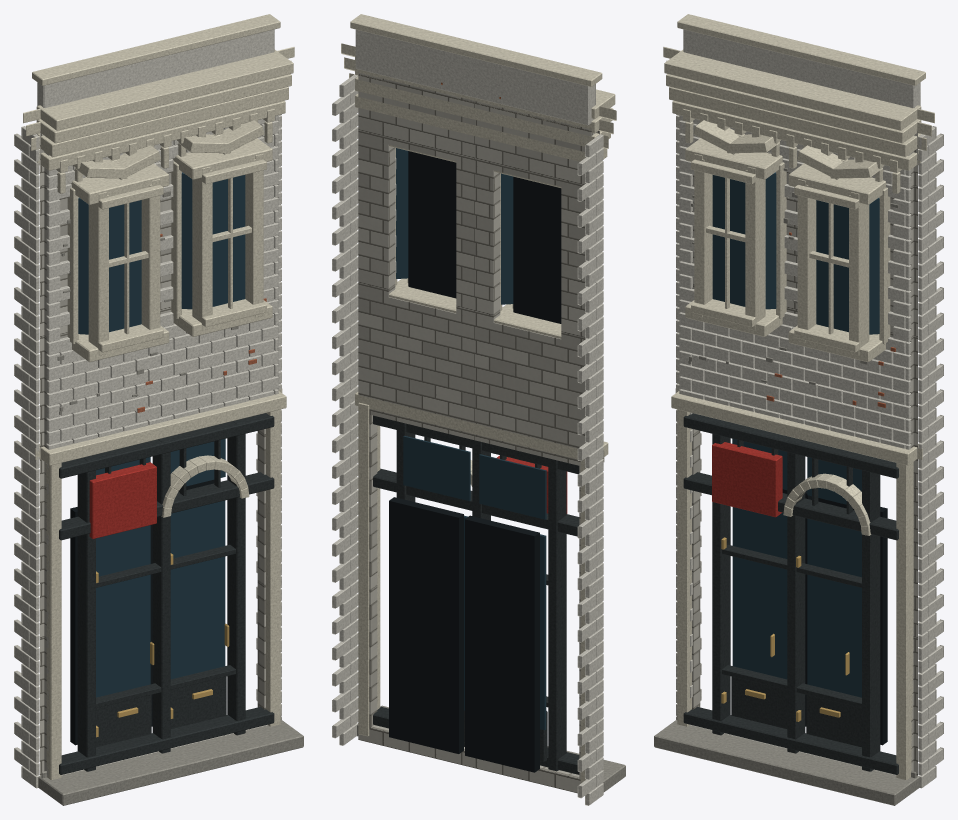
File: BUSS6_lod0.glb
3 views of the same model, side by side, from view 1: azimuth 30°, elevation 25°; view 2: azimuth 150°, elevation 25°; view 3: azimuth 330°, elevation 25° (orthographic).
Parts seen in each view (by area): view 1: BUSS6_FRONT_LOD0; view 2: BUSS6_FRONT_LOD0; view 3: BUSS6_FRONT_LOD0.
Part boxes in pixels (x1,y1,x2,y2): BUSS6_FRONT_LOD0: [14, 14, 303, 805]; BUSS6_FRONT_LOD0: [332, 14, 625, 805]; BUSS6_FRONT_LOD0: [654, 14, 943, 805].
Size of the model in its own units: 3.78 by 9.44 by 1.15.
14 materials, 11 textured.
